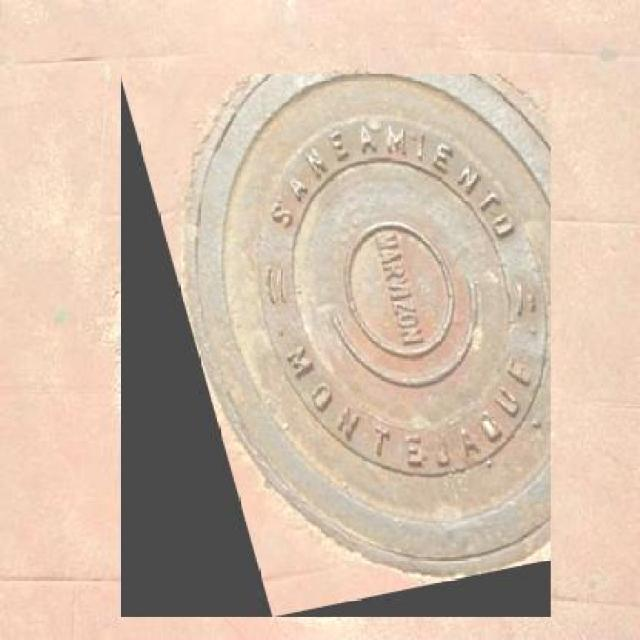Manhole: (120, 74, 551, 617)
